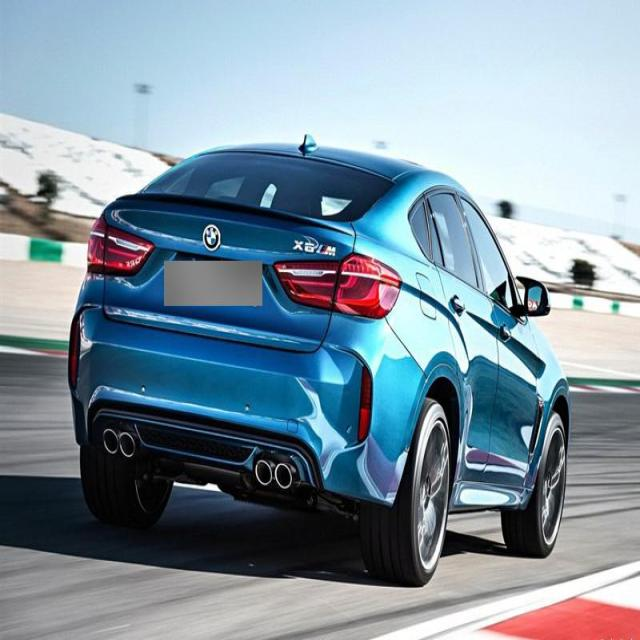back_glass: (136, 149, 398, 223)
back_left_side_light: (82, 210, 154, 279)
back_right_side_light: (272, 250, 404, 320)
front_right_side_door: (457, 190, 536, 503)
front_right_side_mirror: (506, 271, 552, 326)
rear_bumper: (60, 306, 426, 506)
wheel: (361, 401, 453, 588), (499, 413, 568, 551), (77, 446, 176, 528)
